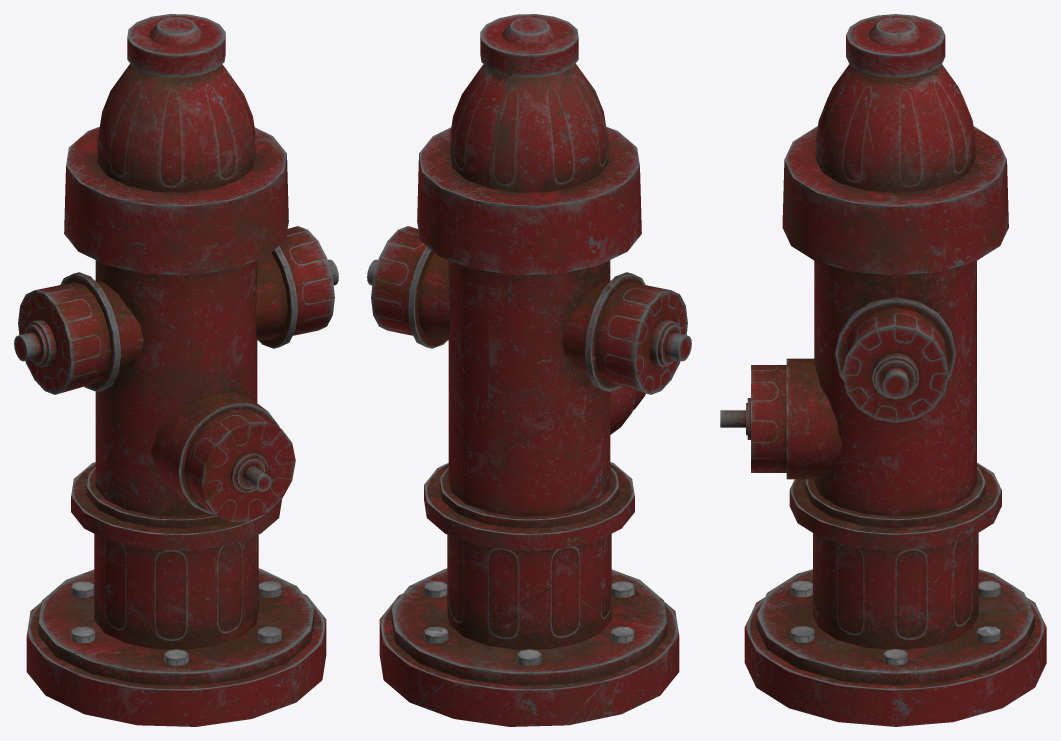
File: fire_hydrant.glb
The picture shows the model from 3 angles, left to right: view 1: azimuth 30°, elevation 25°; view 2: azimuth 150°, elevation 25°; view 3: azimuth 270°, elevation 25°; orthographic projection.
Visible parts, largest first — view 1: Cylinder, Cylinder.001, Cylinder.002, Cylinder.010; view 2: Cylinder, Cylinder.001, Cylinder.010, Cylinder.002; view 3: Cylinder, Cylinder.001, Cylinder.002, Cylinder.010.
Boxes of the visible parts, x1,y1,x2,y2 form: Cylinder: (26, 14, 326, 726); Cylinder.001: (14, 226, 338, 394); Cylinder.002: (150, 392, 295, 521); Cylinder.010: (71, 581, 281, 666); Cylinder: (379, 14, 679, 726); Cylinder.001: (367, 226, 691, 394); Cylinder.010: (424, 581, 634, 666); Cylinder.002: (610, 386, 645, 434); Cylinder: (744, 14, 1046, 726); Cylinder.001: (835, 297, 956, 422); Cylinder.002: (720, 358, 842, 479); Cylinder.010: (790, 580, 1000, 665).
Size of the model in its own units: 103 by 202 by 93.56.
4 materials, 4 textured.
